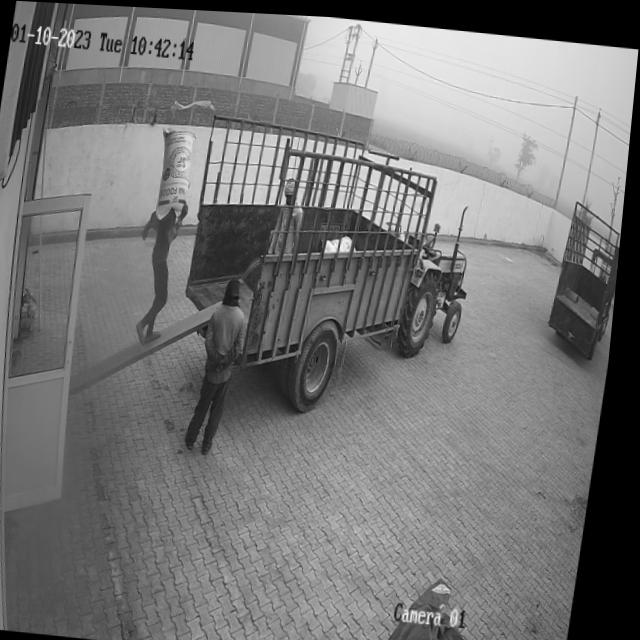sack: (154, 124, 199, 220)
